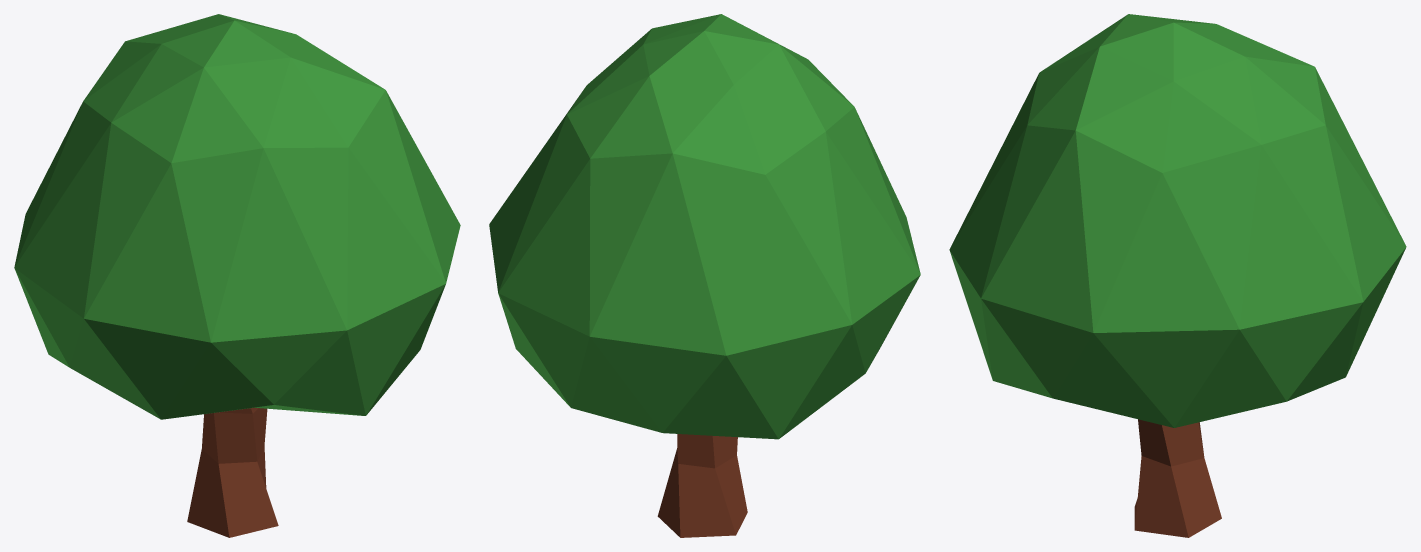
File: Buk1.fbx
3 views of the same model, side by side, from view 1: azimuth 30°, elevation 25°; view 2: azimuth 150°, elevation 25°; view 3: azimuth 270°, elevation 25° (orthographic).
Parts seen in each view (by area): view 1: Icosphere, Cylinder; view 2: Icosphere, Cylinder; view 3: Icosphere, Cylinder.
Boxes of the visible parts, x1,y1,x2,y2 form: Icosphere: [14, 14, 460, 419]; Cylinder: [187, 407, 278, 537]; Icosphere: [489, 14, 920, 439]; Cylinder: [657, 434, 747, 537]; Icosphere: [949, 14, 1406, 427]; Cylinder: [1134, 419, 1221, 537].
Bounding box in the file's own units: 1175 × 1503 × 1256.
